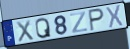8: (54, 15, 69, 37)
P: (88, 8, 106, 32)
Q: (35, 17, 53, 40)
X: (15, 19, 35, 43), (106, 4, 125, 29)
Z: (70, 11, 89, 35)
